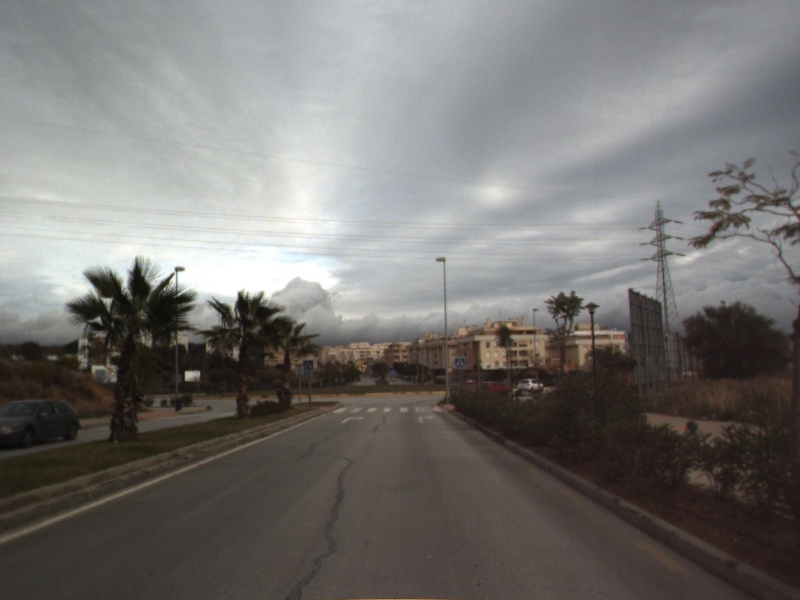RIGHT: (338, 413, 367, 426), (416, 413, 438, 425)
